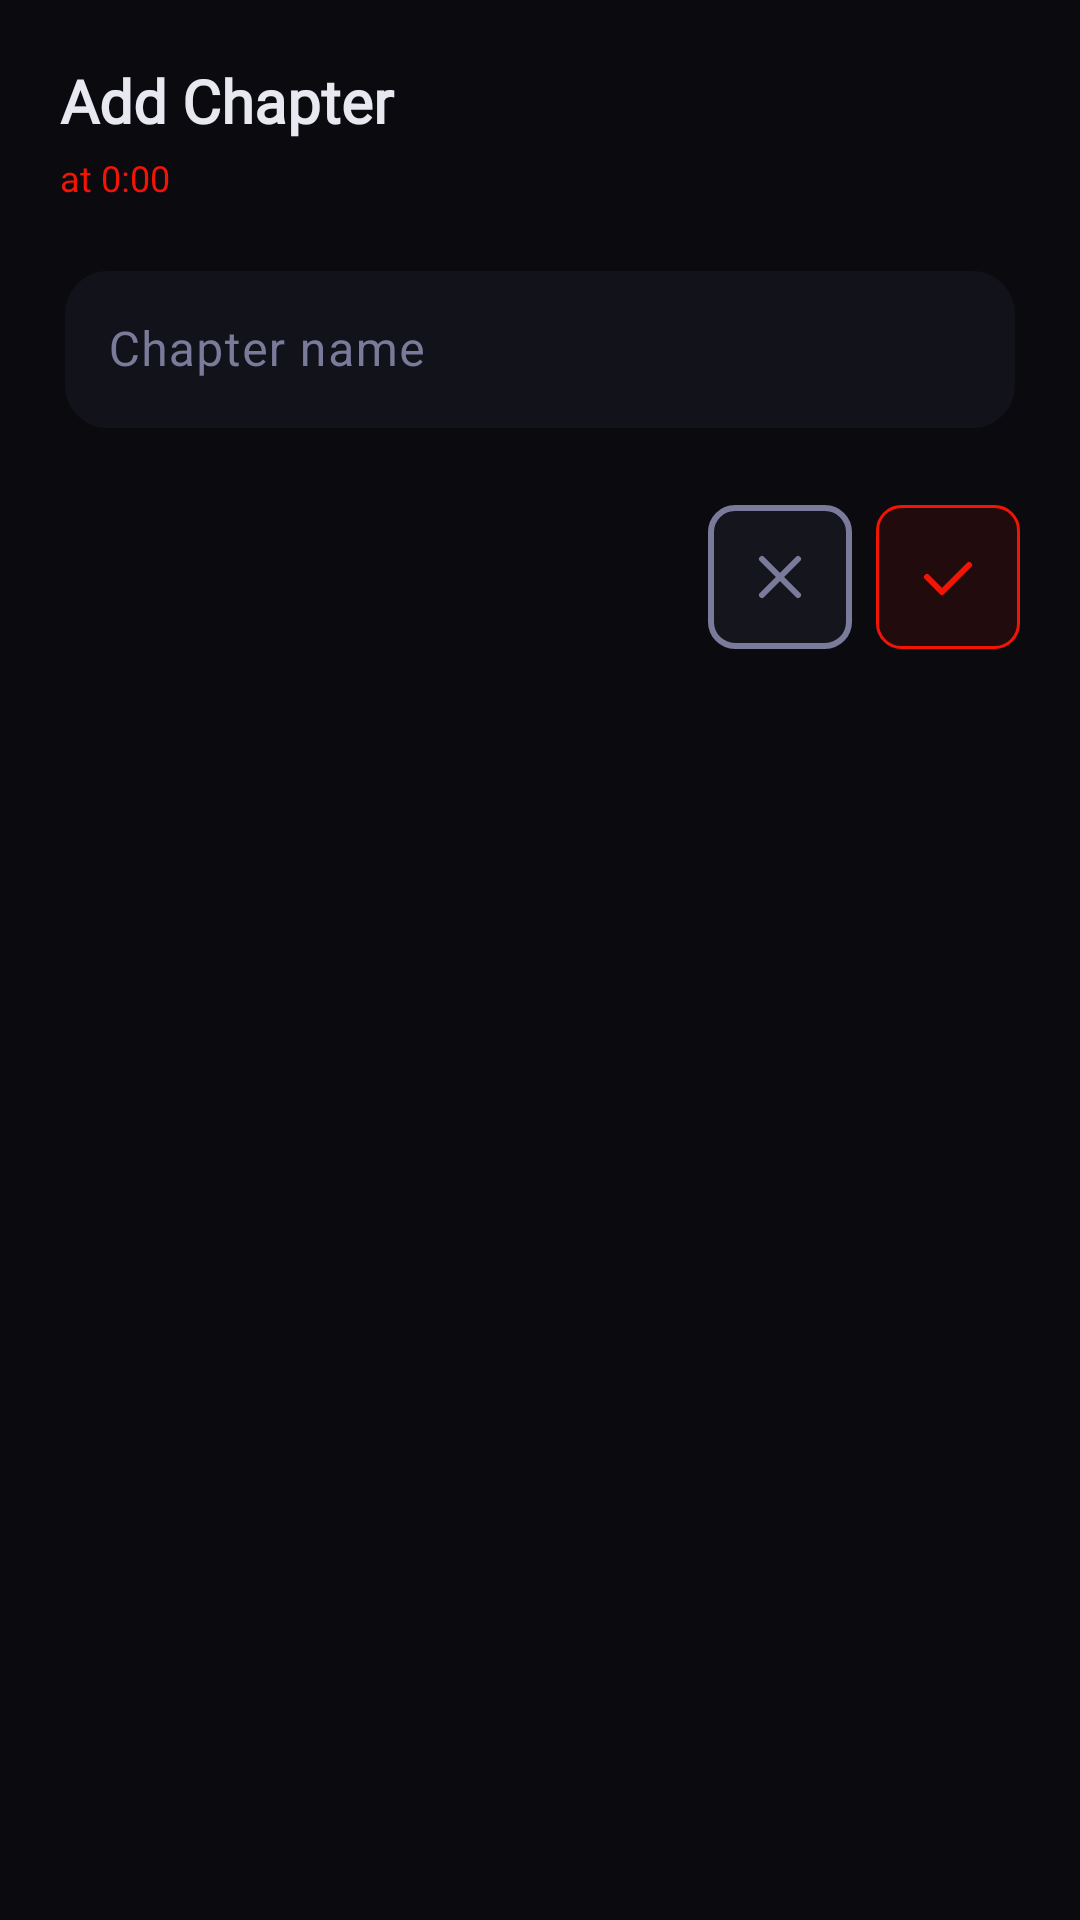

Named icons in this screenshot (1080 x 1920) and their centers, point (x, y):
Cancel: point (780, 577)
